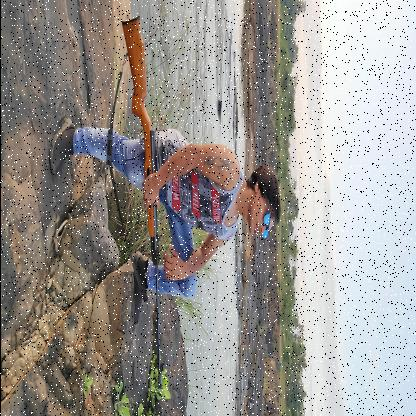rifle: (120, 13, 164, 388)
